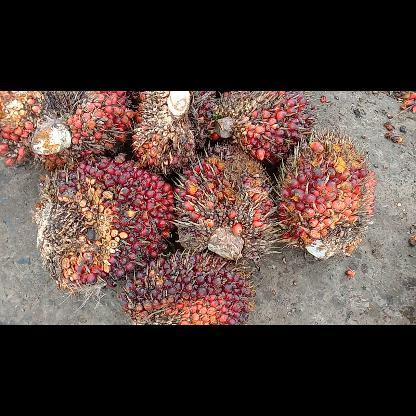TBS masak: (37, 154, 181, 288), (173, 143, 281, 265), (277, 134, 373, 264), (124, 248, 256, 324), (1, 90, 131, 166), (215, 93, 319, 162), (136, 91, 220, 171)
